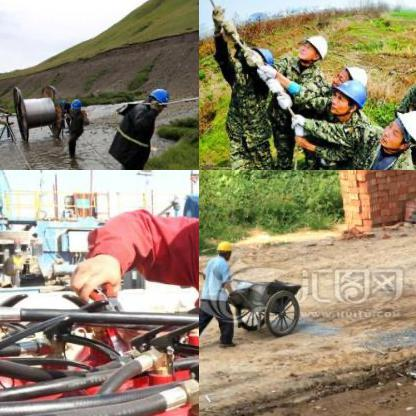Helmet: (321, 73, 370, 117), (379, 102, 415, 155), (295, 30, 329, 64), (330, 64, 370, 87), (244, 42, 272, 68), (145, 84, 169, 110), (210, 237, 233, 261), (68, 96, 80, 112)
